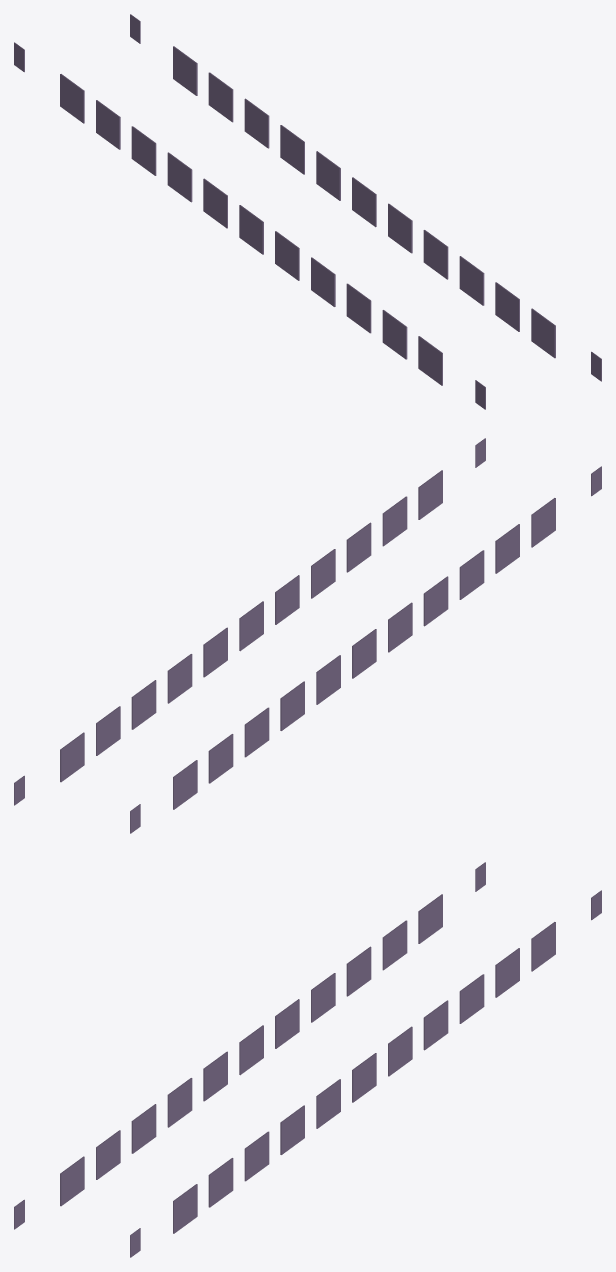
File: SM_Vagon_Cercano_v0_LOD1.fbx
The picture shows the model from 3 angles, top to bottom: view 1: azimuth 30°, elevation 25°; view 2: azimuth 150°, elevation 25°; view 3: azimuth 330°, elevation 25°; orthographic projection.
Visible parts, largest first — view 1: Ventanillas; view 2: Ventanillas; view 3: Ventanillas.
Boxes of the visible parts, <box> form: Ventanillas: <box>14,14,601,409</box>; Ventanillas: <box>14,438,601,833</box>; Ventanillas: <box>14,862,601,1257</box>.
Size of what is drawn, in the model's own units: 3.01 by 0.8 by 21.05.
